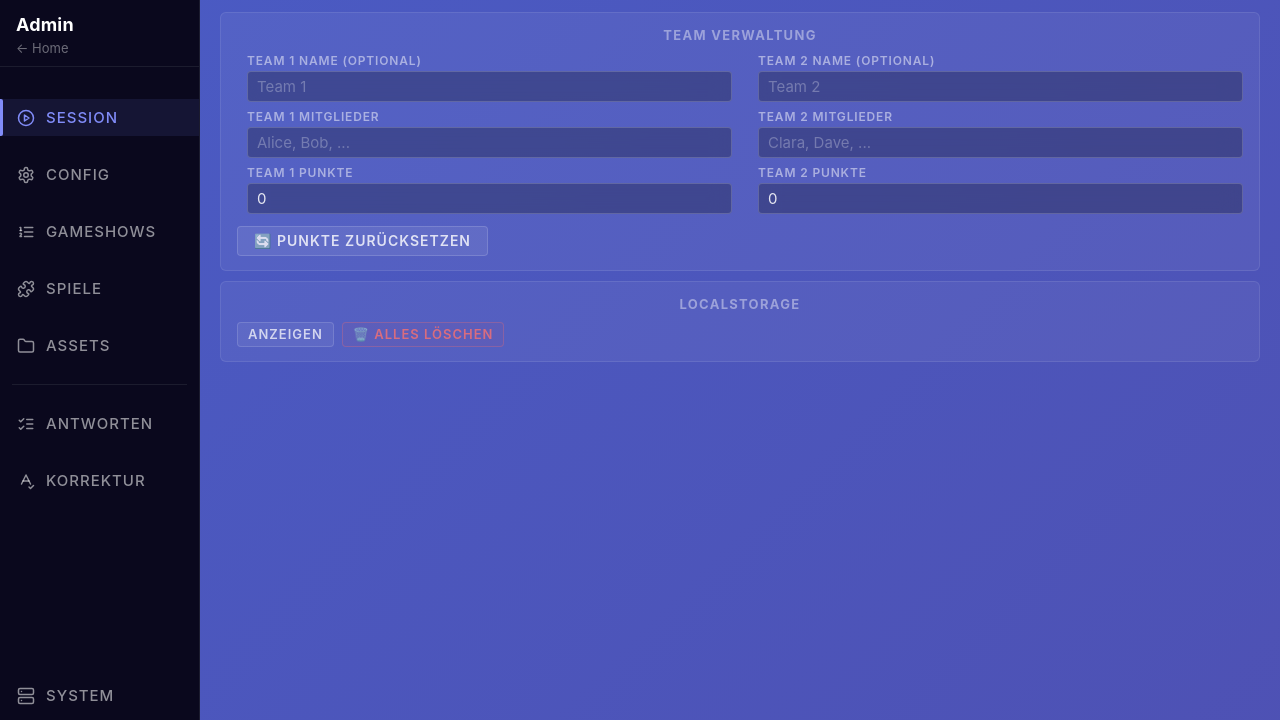
Scenario: AdminScreen - Gaps › toggles storage visibility
Click the button "Anzeigen". click: (285, 334)
box: [237, 322, 334, 347]
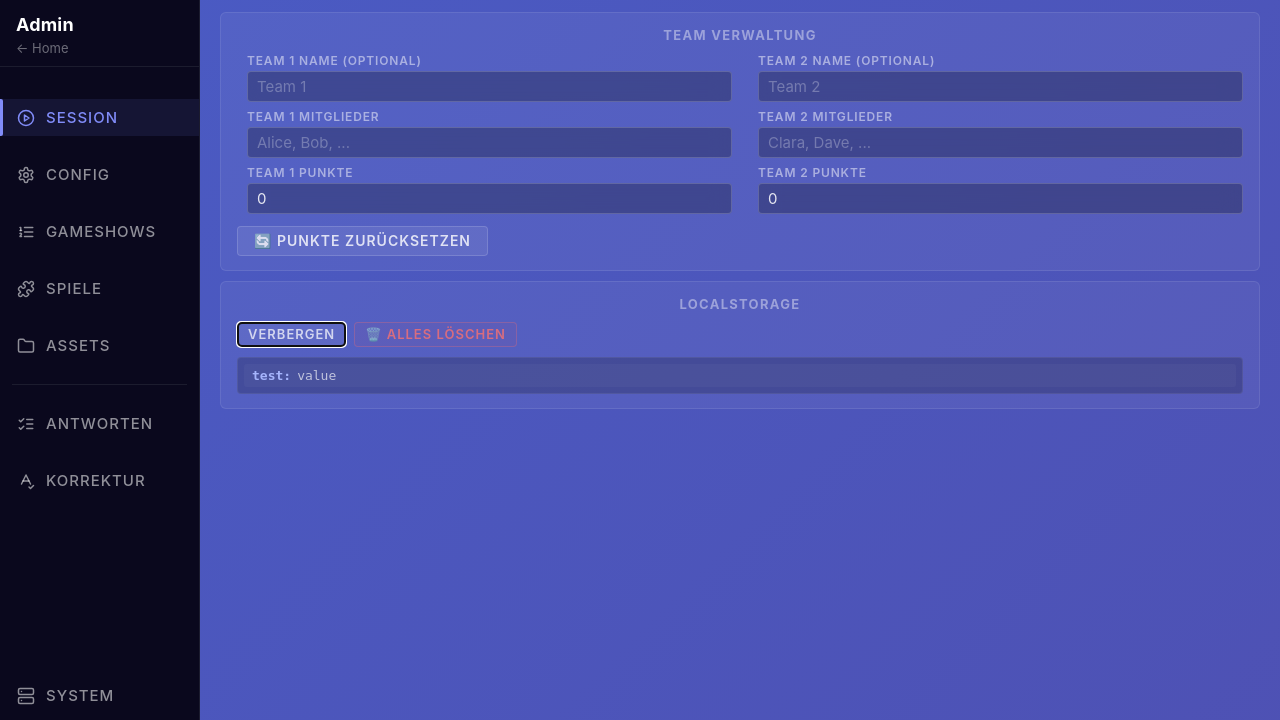
Expected: the text "test:" is shown, [252, 368, 291, 383]
Click the button "Verbergen". click: (292, 334)
box: [237, 322, 346, 347]
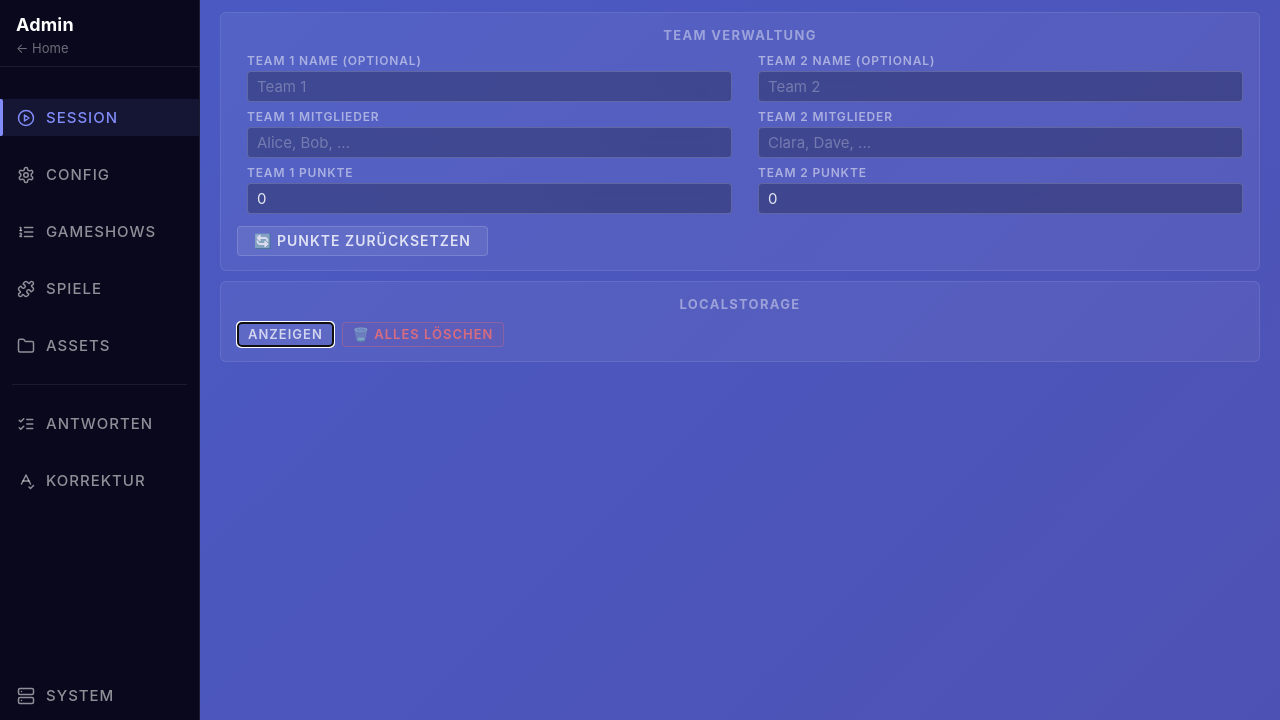
Expected: the text "test:" is gone
